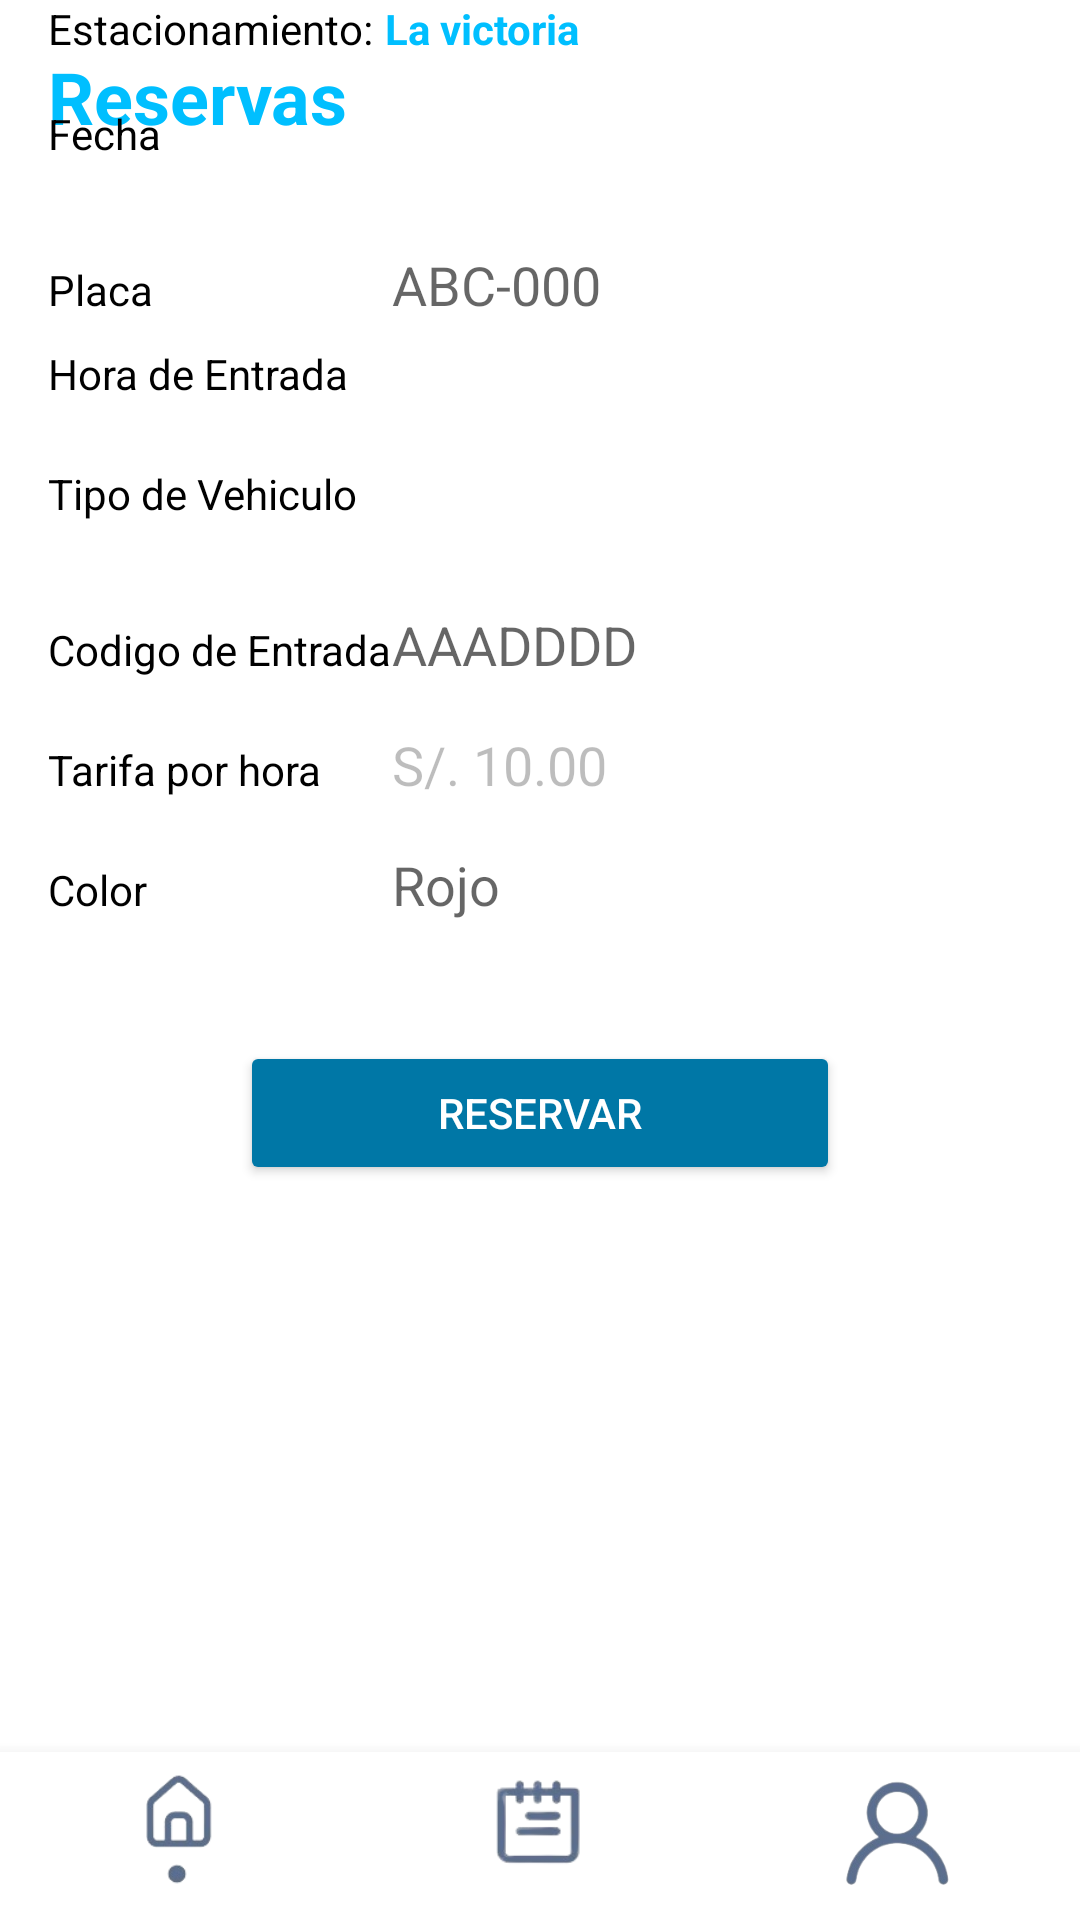

Icon click points for this 1080px×1920px phone screenshot, format point (x, y):
Calendario: point (538, 1821)
Inicio: point (178, 1829)
Perfil: point (897, 1833)
